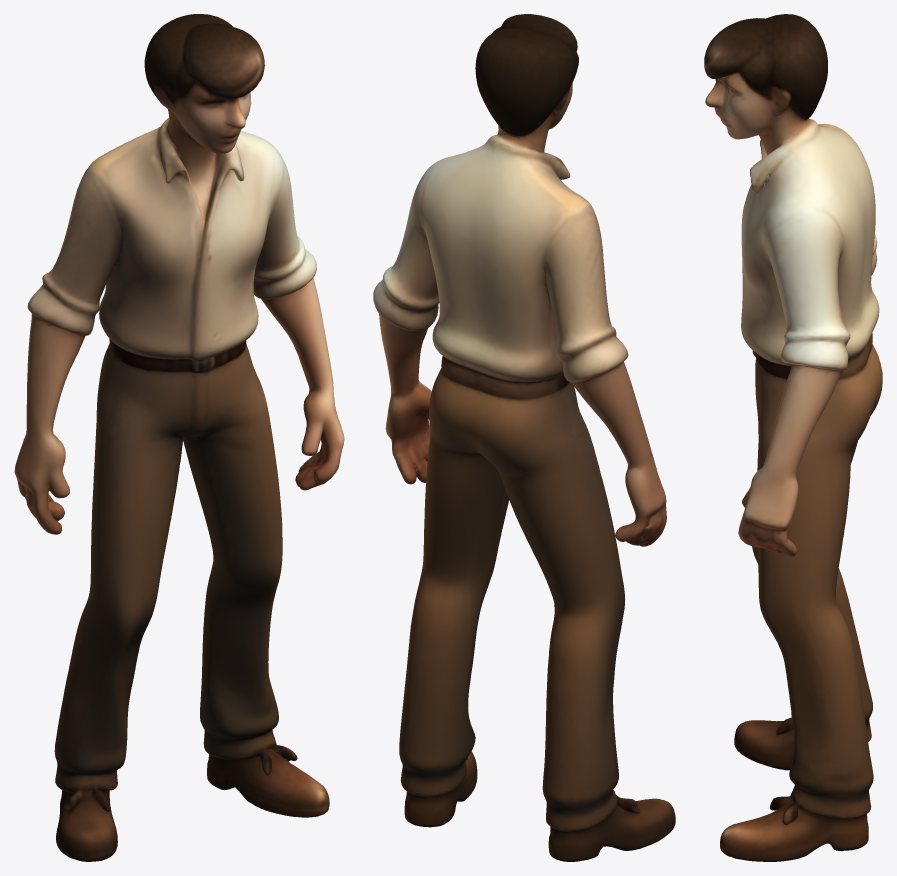
The model's file is body_s11.glb.
3 views of the same model, side by side, from view 1: azimuth 30°, elevation 25°; view 2: azimuth 150°, elevation 25°; view 3: azimuth 270°, elevation 25° (orthographic). The views are drawn at different scales.
Visible parts, largest first — view 1: geometry_0; view 2: geometry_0; view 3: geometry_0.
Boxes of the visible parts, bbox=[...] form: geometry_0: bbox=[14, 14, 344, 861]; geometry_0: bbox=[373, 14, 675, 861]; geometry_0: bbox=[704, 14, 882, 861].
Size of the model in its own units: 0.3908 by 1 by 0.206.
Materials: 1 (1 with a texture image).
